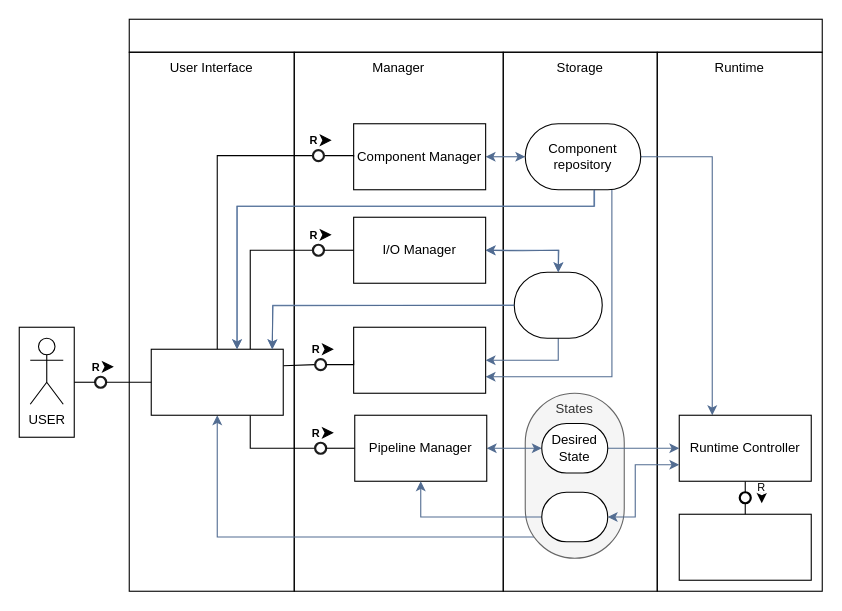
Some shapes in this 842 by 611 pixel diagram are drawn without their labels. Each missing label, with the centre of its shape:
"Actual State" goes at [574,516].
"Available I/O Sources" goes at [557,304].
"Dashboard" goes at [216,381].
"ECiDA" goes at [475,35].
"Pipeline Planner" goes at [419,359].
"Scheduler" goes at [744,546].
